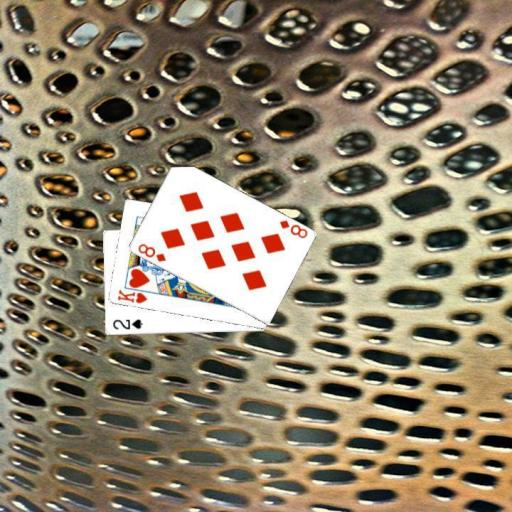card-corner: (135, 240, 167, 264), (276, 217, 309, 240), (114, 287, 148, 305), (110, 316, 144, 332)
